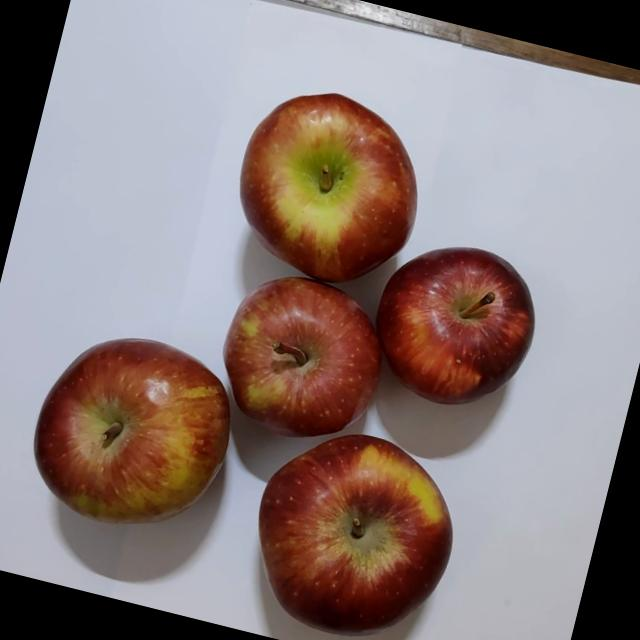apple: (220, 406, 485, 640), (5, 310, 252, 558), (212, 70, 442, 304), (200, 257, 408, 464), (352, 226, 554, 431)
